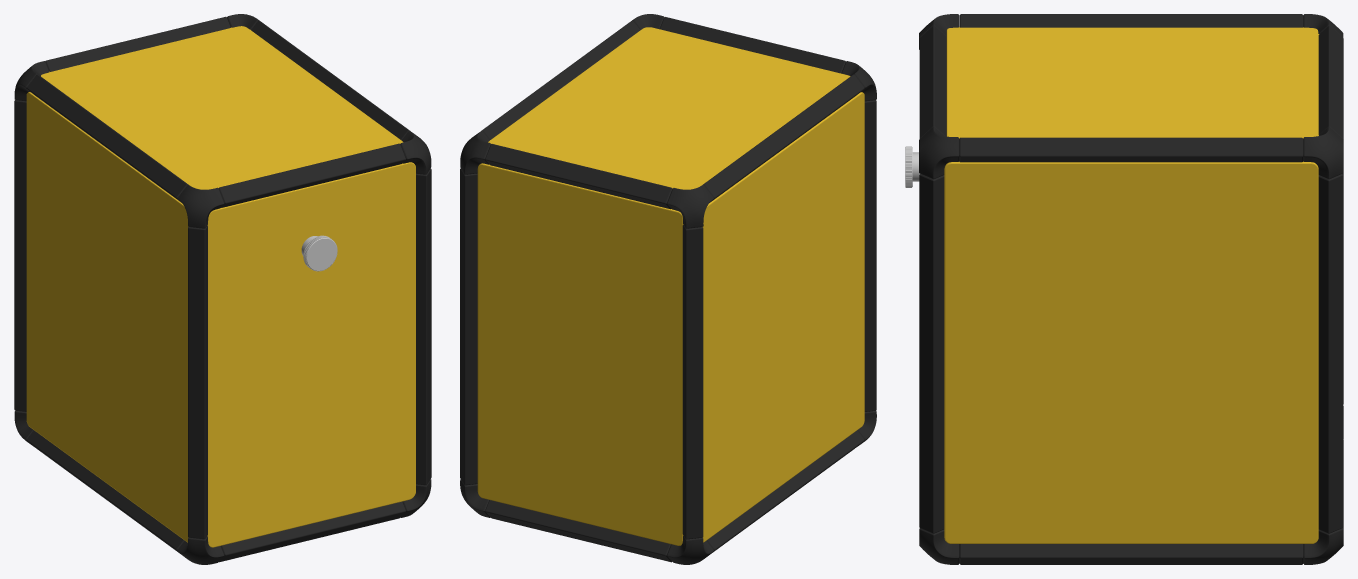
3 views of the same model, side by side, from view 1: azimuth 30°, elevation 25°; view 2: azimuth 150°, elevation 25°; view 3: azimuth 270°, elevation 25° (orthographic). The views are drawn at different scales.
Parts seen in each view (by area): view 1: 229x329x374; view 2: 229x329x374; view 3: 229x329x374.
Part boxes in pixels (x1,y1,x2,y2): 229x329x374: (14,14,431,564); 229x329x374: (460,14,876,564); 229x329x374: (905,14,1343,564).
Size of the model in its own units: 0.3067 by 0.4516 by 0.4196.
